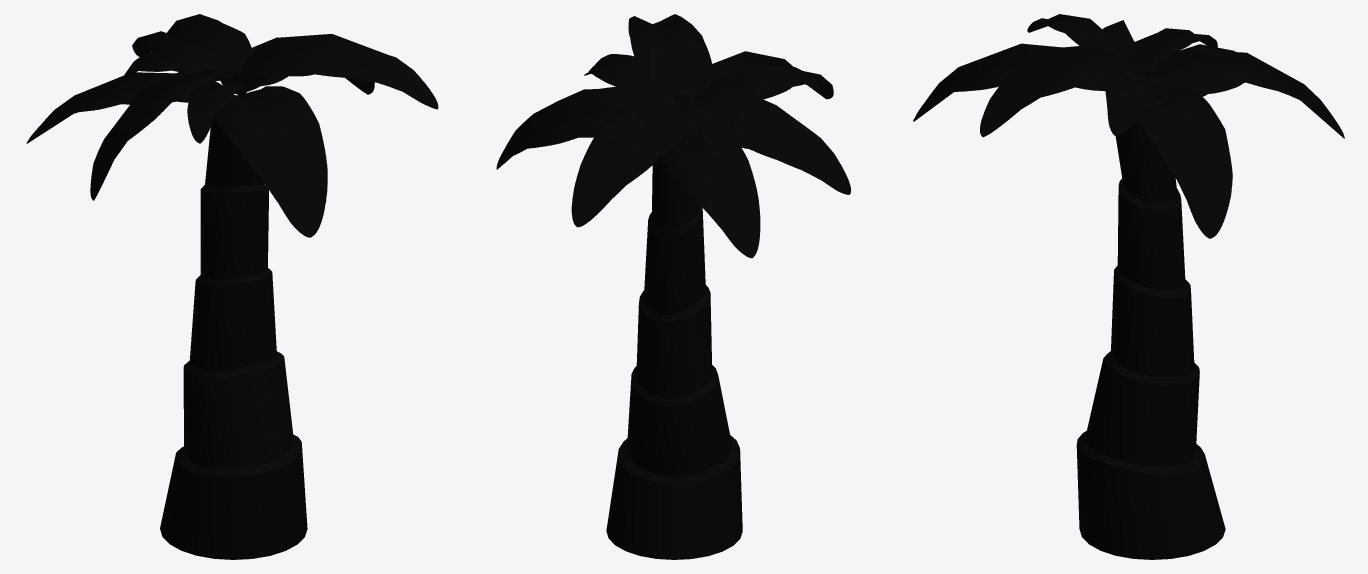
Rendered from Tree_1c.fbx.
The picture shows the model from 3 angles, left to right: view 1: azimuth 30°, elevation 25°; view 2: azimuth 150°, elevation 25°; view 3: azimuth 270°, elevation 25°; orthographic projection. The views are drawn at different scales.
Visible parts, largest first — view 1: Tree_1c; view 2: Tree_1c; view 3: Tree_1c.
Boxes of the visible parts, bbox=[...] form: Tree_1c: bbox=[26, 14, 438, 559]; Tree_1c: bbox=[496, 14, 851, 559]; Tree_1c: bbox=[913, 14, 1344, 559].
Size of the model in its own units: 59.18 by 79.79 by 66.06.
Materials: 1 (1 with a texture image).
